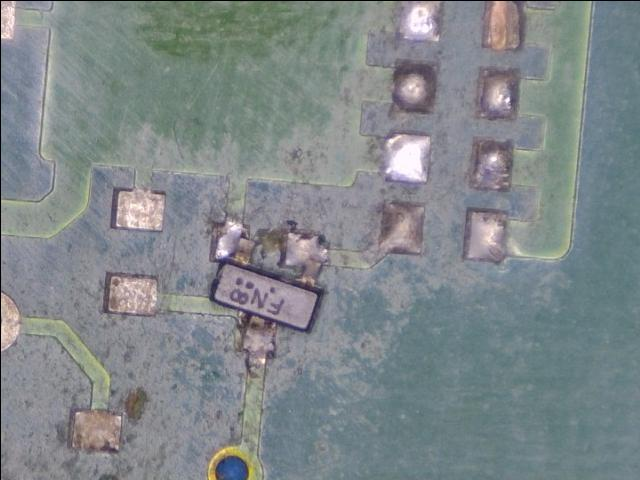Incorrect_installation: (208, 225, 322, 351)
